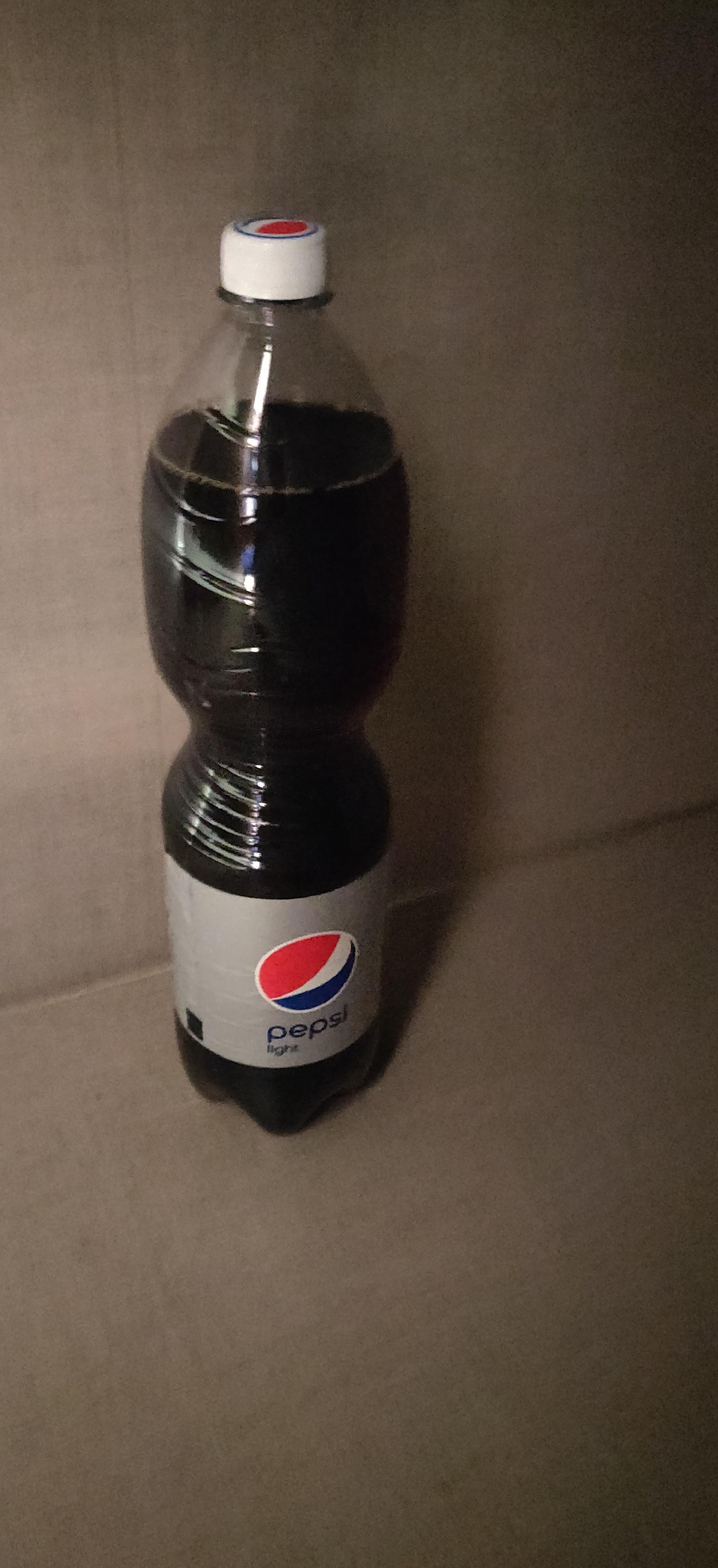bottle-plastic: (137, 211, 416, 1136)
